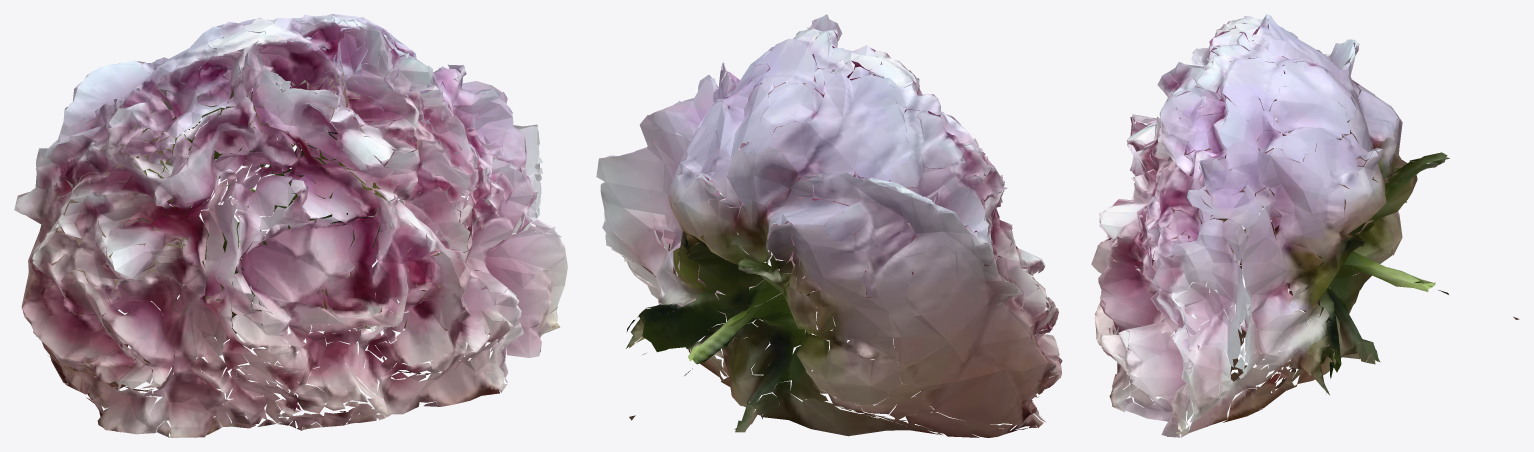
Rendered from pfingstrose.glb.
3 renders of one model, left to right at view 1: azimuth 30°, elevation 25°; view 2: azimuth 150°, elevation 25°; view 3: azimuth 270°, elevation 25°, orthographic. The views are drawn at different scales.
Visible parts, largest first — view 1: pfingstrose; view 2: pfingstrose; view 3: pfingstrose.
Part boxes in pixels (x1,y1,x2,y2): pfingstrose: (14, 14, 567, 437); pfingstrose: (596, 14, 1062, 437); pfingstrose: (1091, 14, 1519, 437).
Bounding box in the file's own units: 0.5945 × 0.4086 × 0.5035.
Materials: 2 (2 with a texture image).
